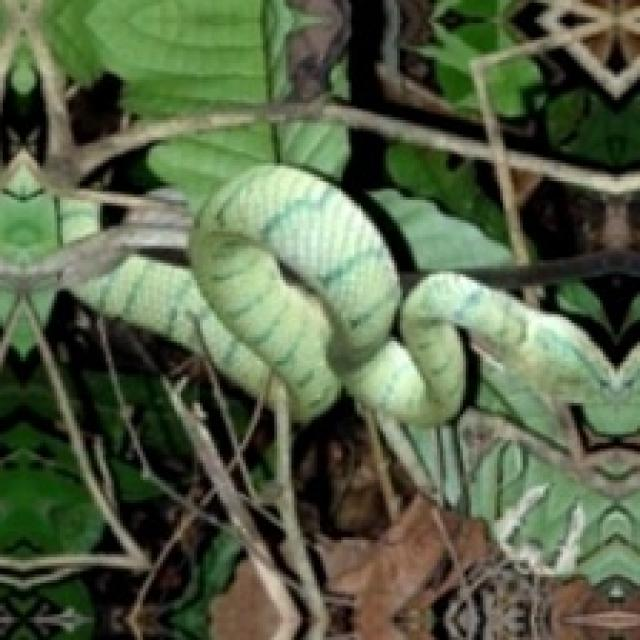north ph temple pitviper: (63, 163, 637, 431), (0, 160, 60, 269)
